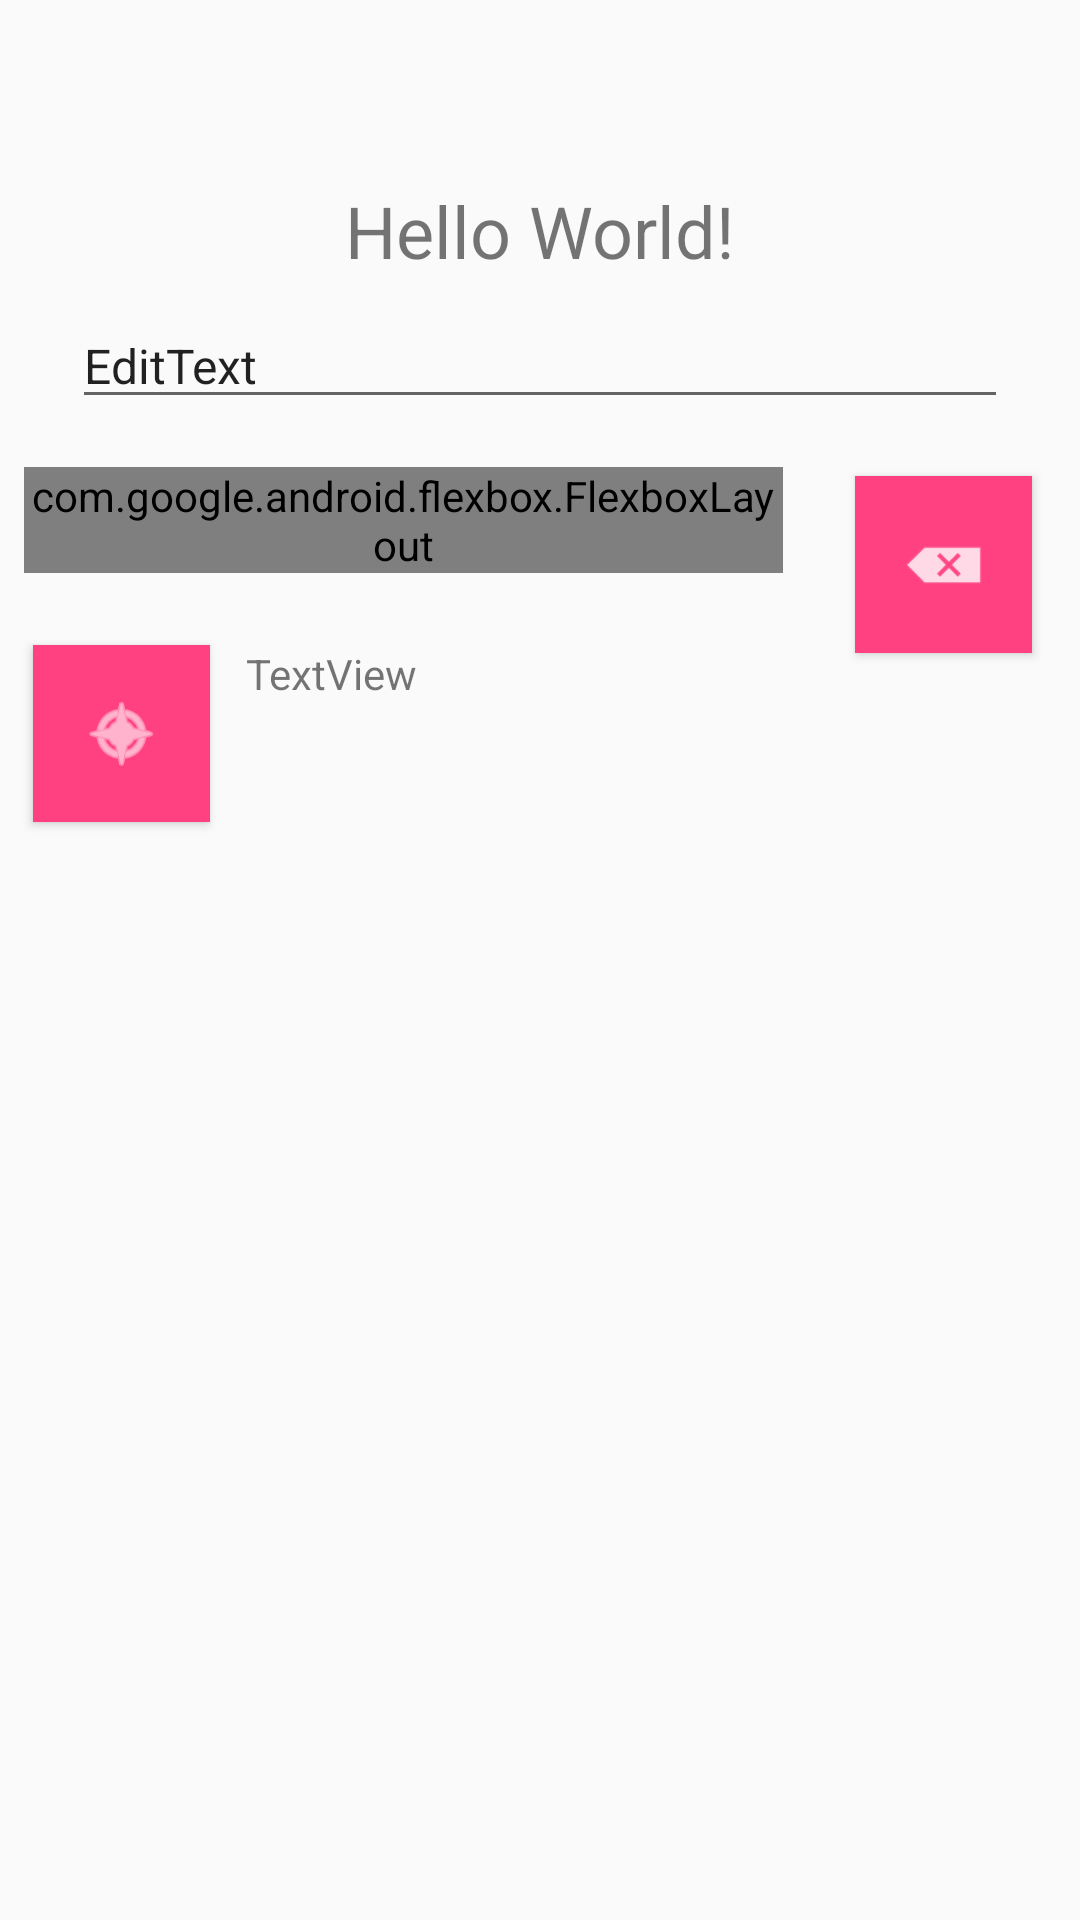

Locate icon controls on the screen. Image size 1080w x 1920h, boxes as [x1=x1, y1=y1, x2=x2, y2=y2].
delete: [x1=855, y1=476, x2=1032, y2=653]
